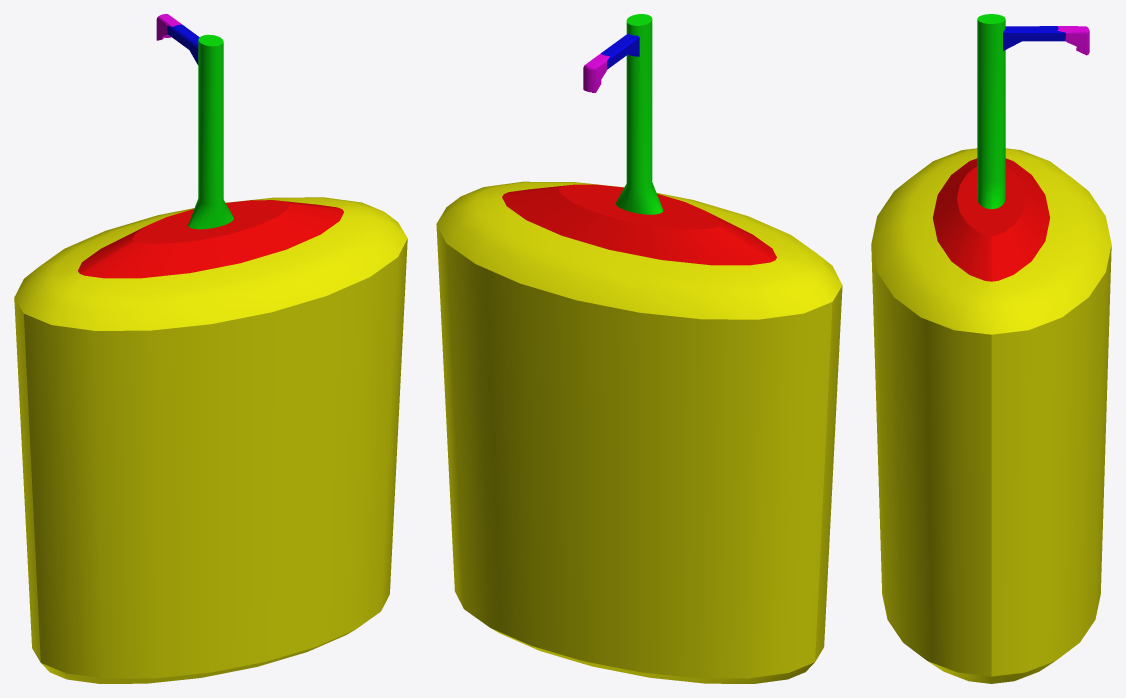
File: Sanitizer.fbx
The picture shows the model from 3 angles, left to right: view 1: azimuth 30°, elevation 25°; view 2: azimuth 150°, elevation 25°; view 3: azimuth 270°, elevation 25°; orthographic projection. The views are drawn at different scales.
Visible parts, largest first — view 1: Sanitizer; view 2: Sanitizer; view 3: Sanitizer.
Boxes of the visible parts, x1,y1,x2,y2 form: Sanitizer: (14,14,407,683); Sanitizer: (436,14,842,683); Sanitizer: (871,14,1111,683).
Bounding box in the file's own units: 200 × 303 × 112.
